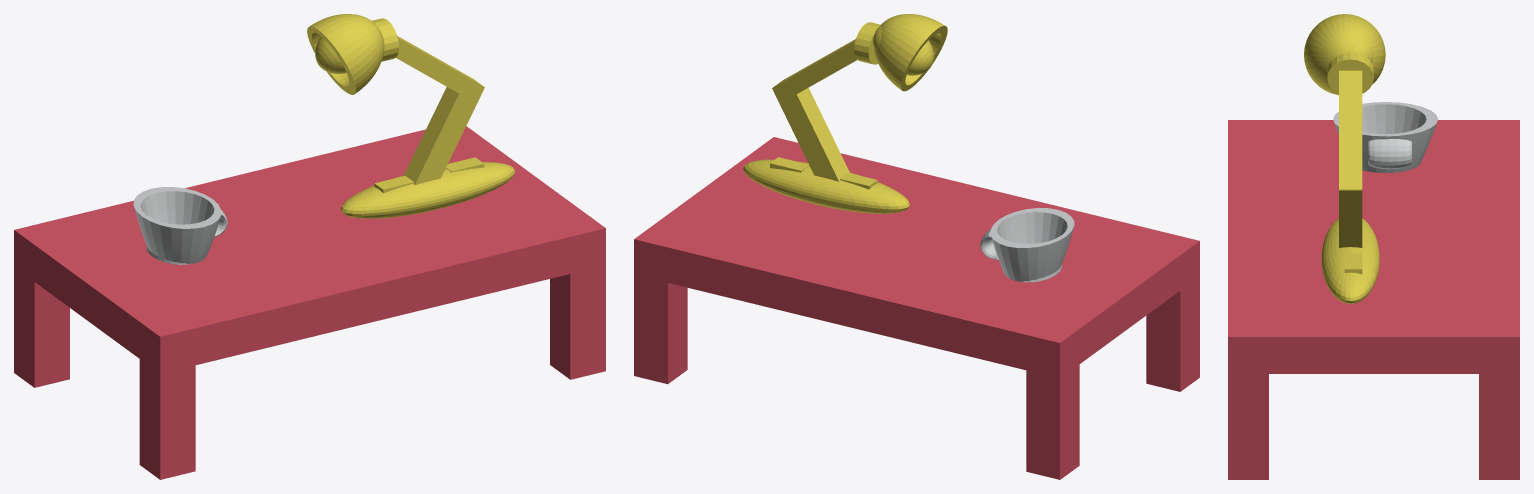
Rendered from Table and Cup.glb.
3 views of the same model, side by side, from view 1: azimuth 30°, elevation 25°; view 2: azimuth 150°, elevation 25°; view 3: azimuth 270°, elevation 25° (orthographic). The views are drawn at different scales.
Parts seen in each view (by area): view 1: Mesh_Mesh_head_geo.001_lambert2SG.001; view 2: Mesh_Mesh_head_geo.001_lambert2SG.001; view 3: Mesh_Mesh_head_geo.001_lambert2SG.001.
Part boxes in pixels (<box>): Mesh_Mesh_head_geo.001_lambert2SG.001: <box>14,14,605,479</box>; Mesh_Mesh_head_geo.001_lambert2SG.001: <box>634,14,1199,479</box>; Mesh_Mesh_head_geo.001_lambert2SG.001: <box>1228,14,1519,479</box>.
Bounding box in the file's own units: 88 × 67.98 × 50.
